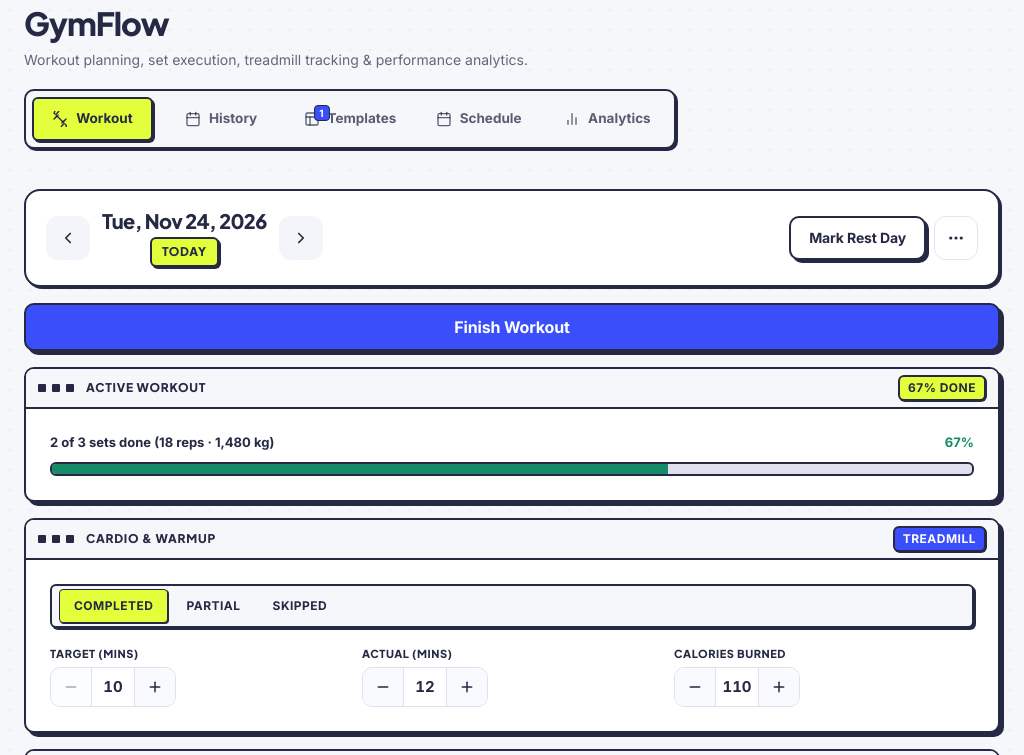
GymFlow Page Component & New Feature Suite › opens finish workout modal with accurate summary stats when Finish Workout is clicked
Click the button "Finish Workout" at coordinates (512, 327), box [24,303,1000,351]
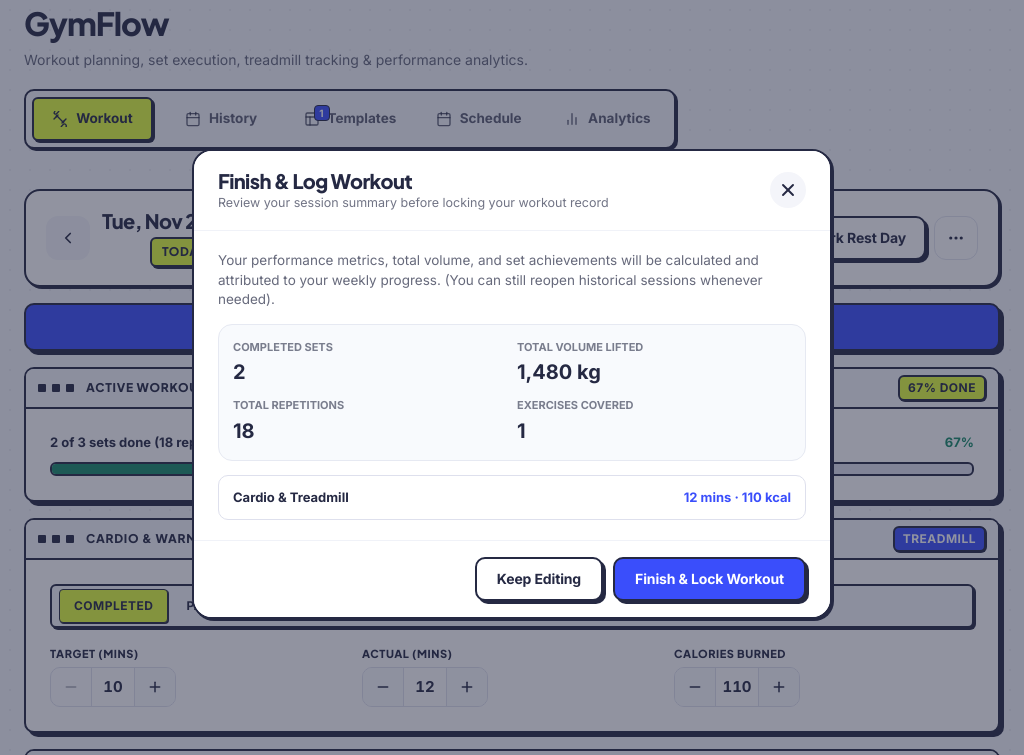
Expected: the heading "Finish & Log Workout" is shown, [218,168,412,192]
Expected: the text "Total Repetitions" is shown, [233,398,344,412]
